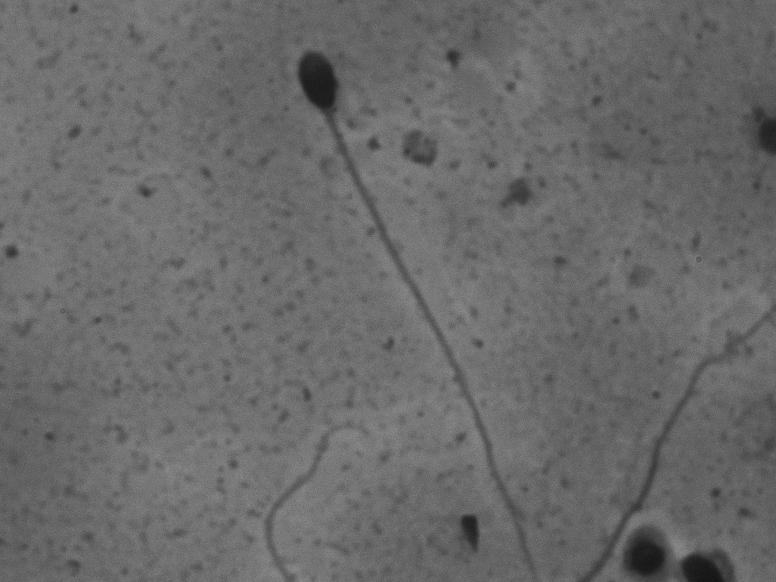Normal: (289, 38, 544, 574)
